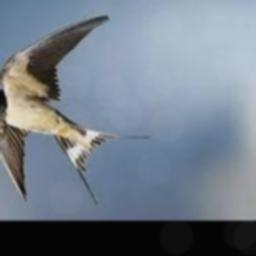Swallow: (0, 15, 150, 204)
